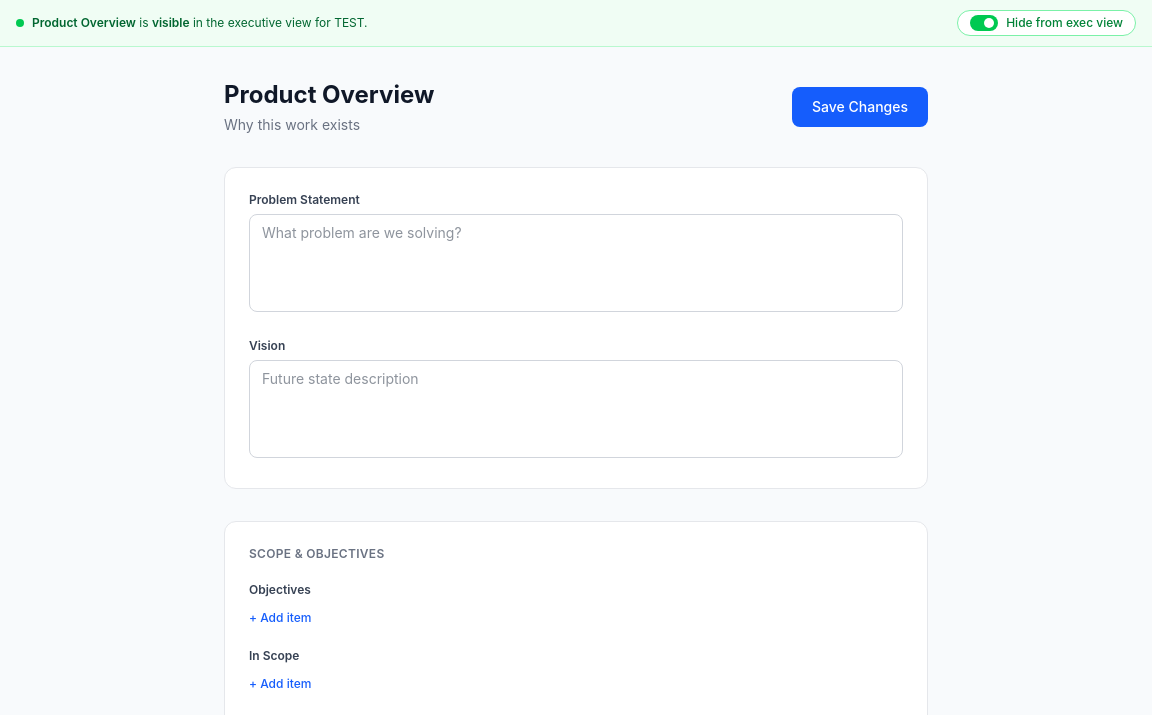
Test: ProductOverviewEditor › T-51.05: clicking Save shows saved confirmation
Click the button "Save Changes".
click(860, 107)  # box [792,87,928,127]
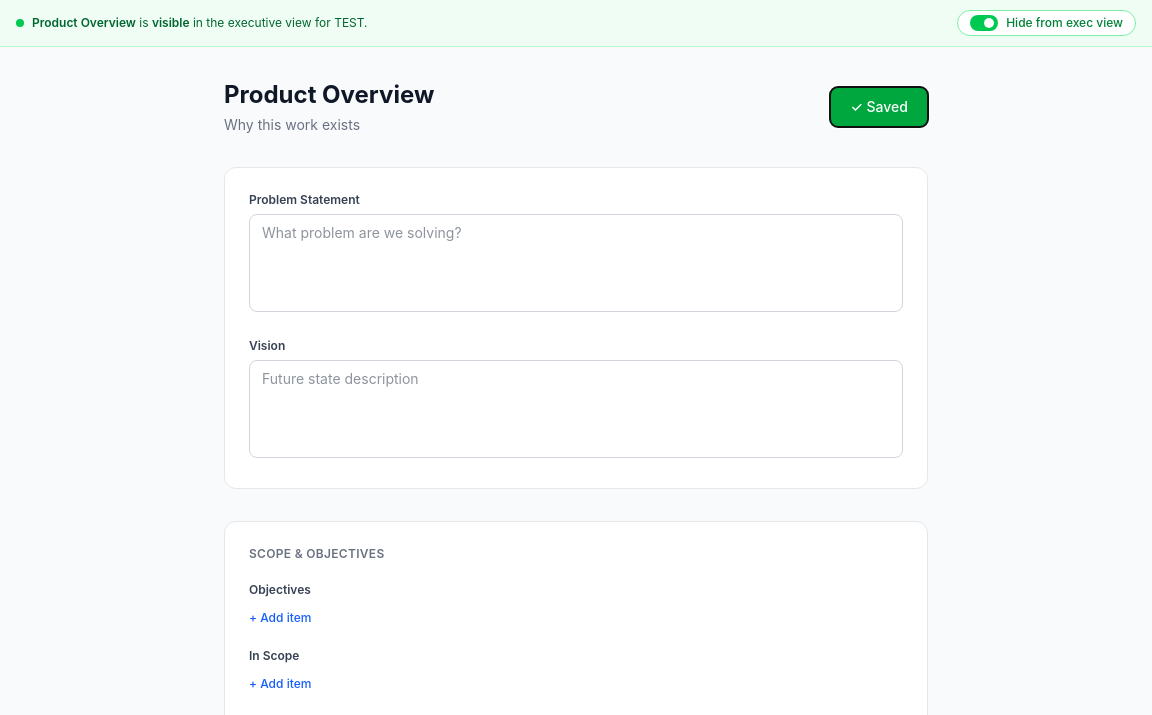
Result: the button "✓ Saved" is shown at [830,87,928,127]
